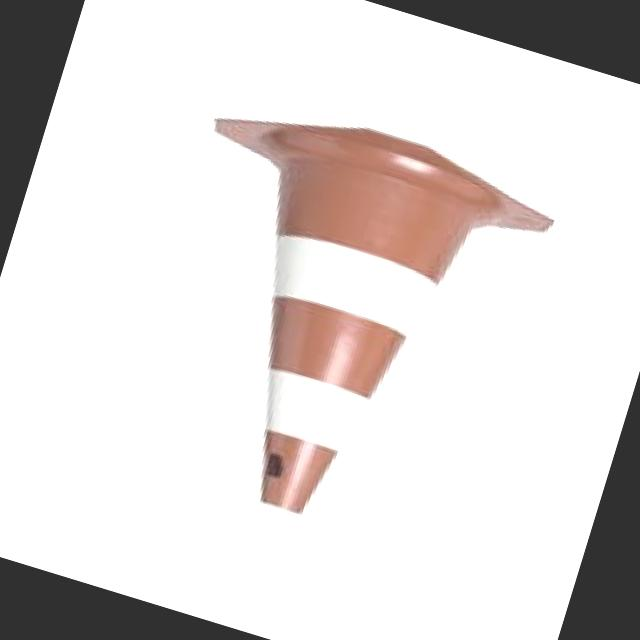cone: (142, 96, 525, 576)
